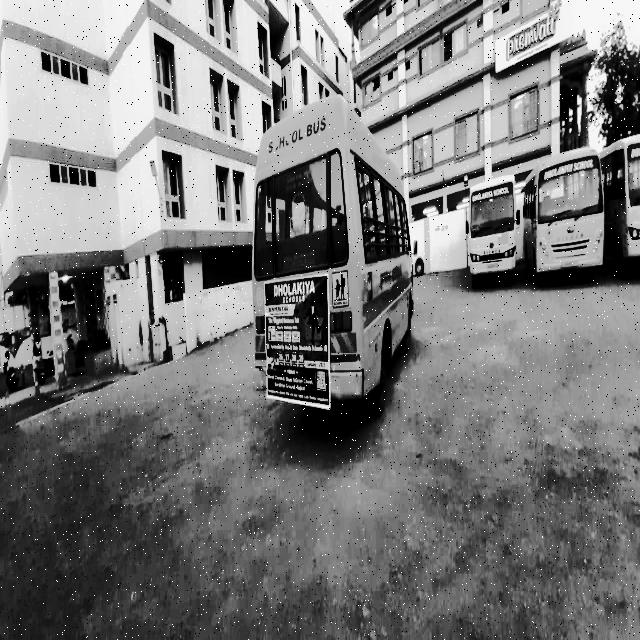Bus: (251, 98, 423, 434), (524, 152, 607, 284), (466, 170, 520, 288), (612, 129, 640, 275)
